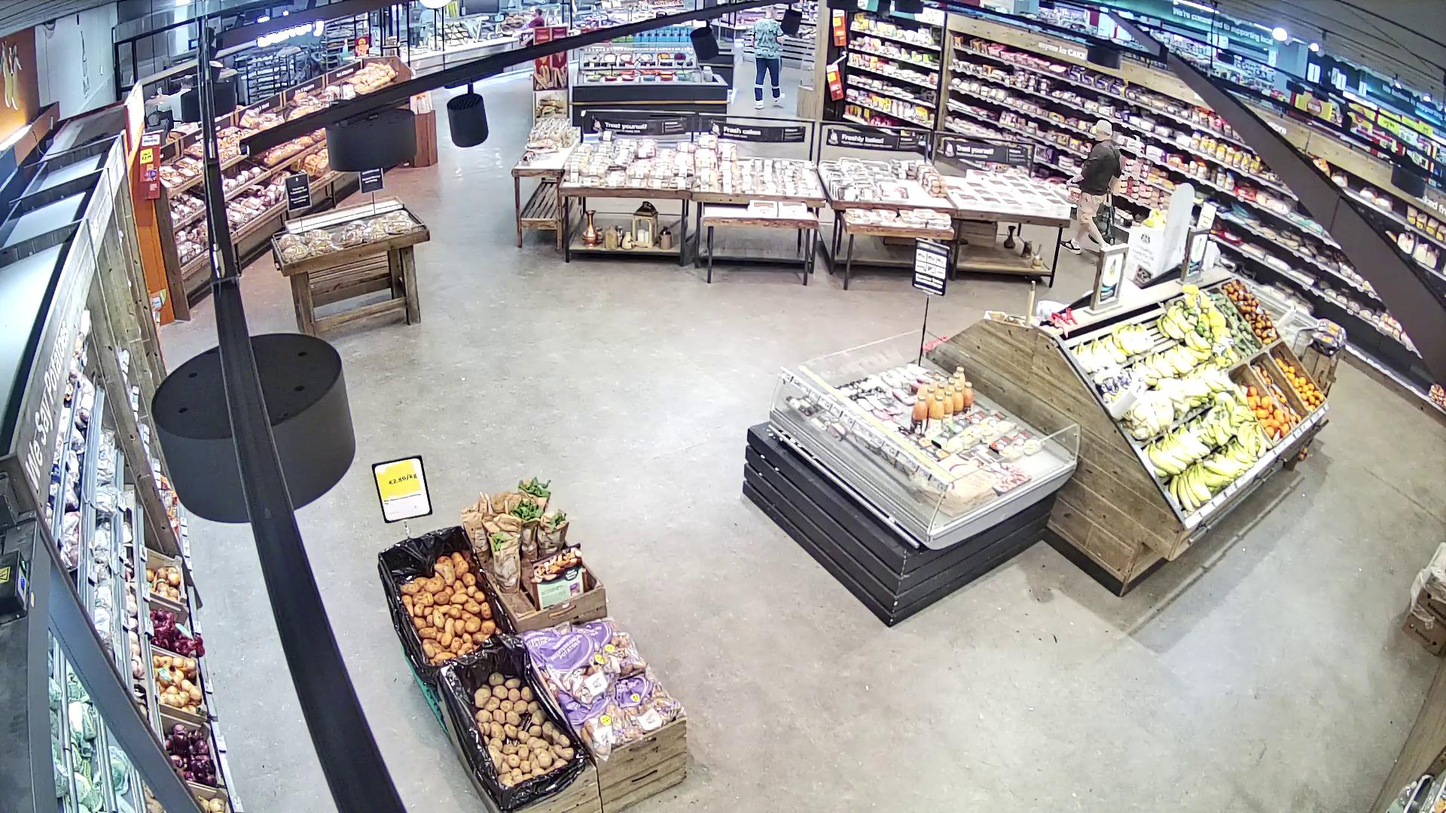filled-shopping-bags: (1089, 200, 1115, 247)
person: (1060, 121, 1121, 254)
person-with-filled-shopping-bag-s-: (1059, 121, 1121, 254)
